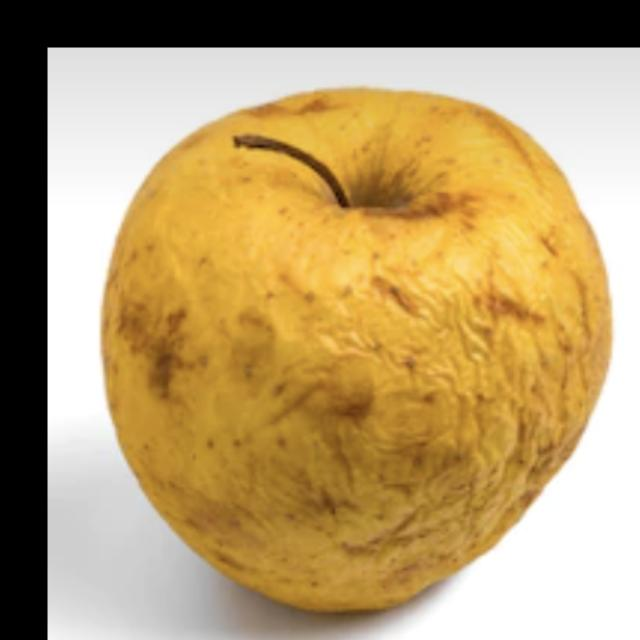Apel Tidak Segar: (60, 71, 626, 636)
